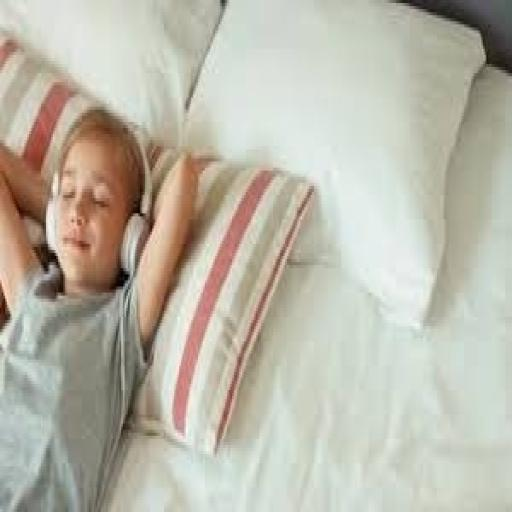listening_to_music: (0, 104, 220, 509)
